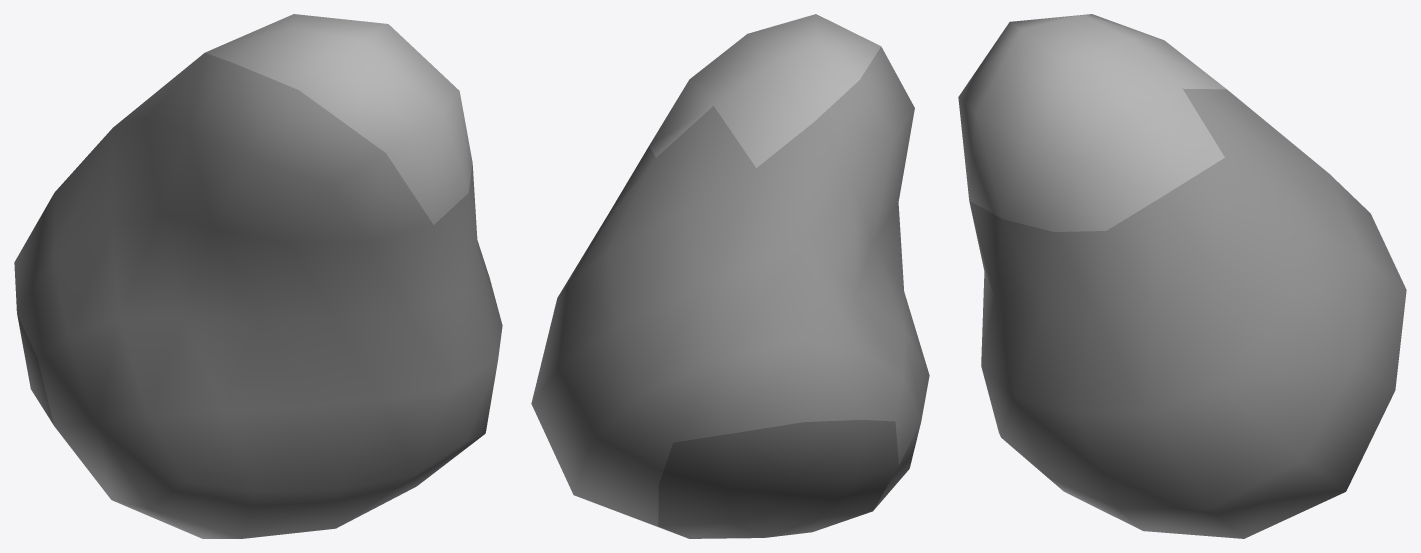
File: rock_01.fbx
3 views of the same model, side by side, from view 1: azimuth 30°, elevation 25°; view 2: azimuth 150°, elevation 25°; view 3: azimuth 270°, elevation 25° (orthographic). The views are drawn at different scales.
Parts seen in each view (by area): view 1: rock_01; view 2: rock_01; view 3: rock_01.
Part boxes in pixels (x1,y1,x2,y2): rock_01: (14, 14, 502, 538); rock_01: (531, 14, 929, 538); rock_01: (958, 14, 1406, 538).
Bounding box in the file's own units: 55.98 × 70.69 × 59.63.
